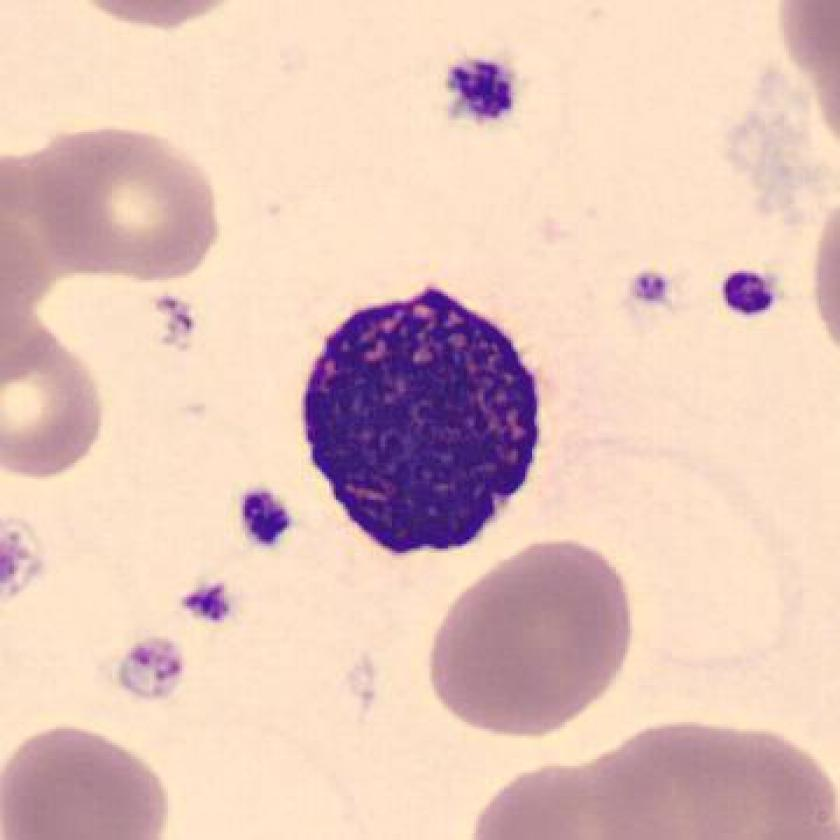basophil: (293, 279, 556, 561)
